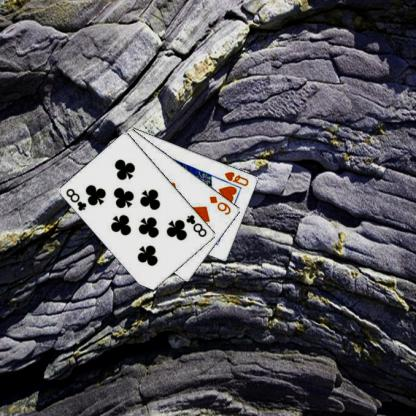6D: (206, 193, 232, 216)
8C: (183, 211, 208, 238), (64, 186, 88, 212)
QH: (222, 169, 250, 187)
